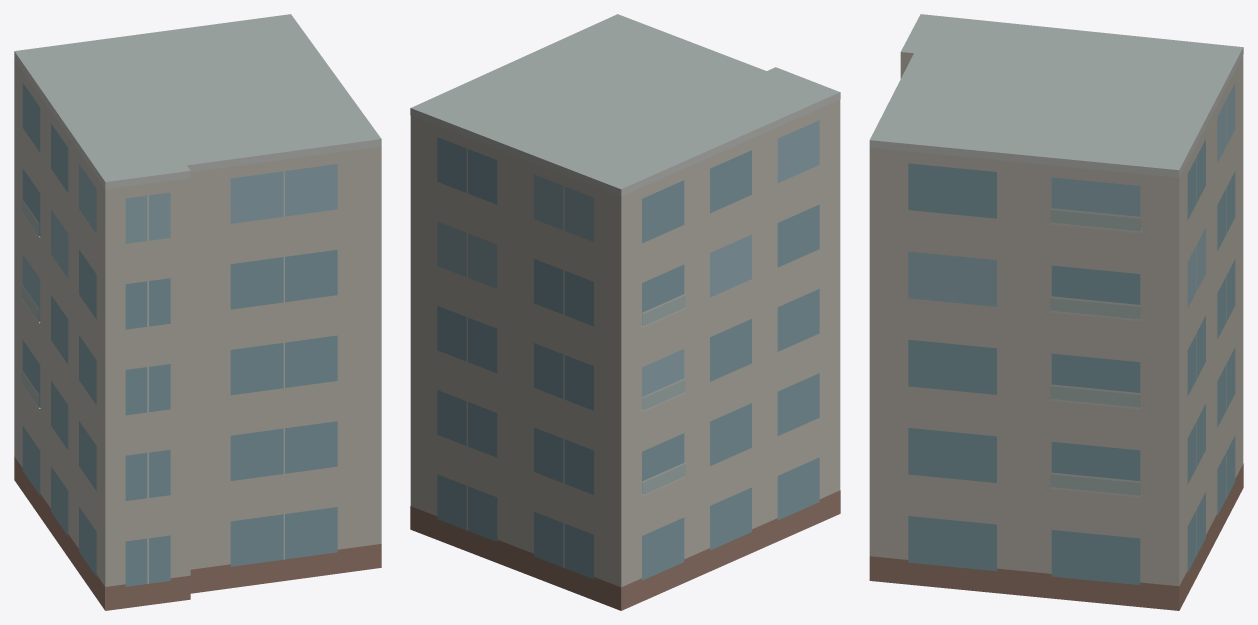
File: survey-upis-32495085.glb
3 views of the same model, side by side, from view 1: azimuth 30°, elevation 25°; view 2: azimuth 150°, elevation 25°; view 3: azimuth 270°, elevation 25° (orthographic). The views are drawn at different scales.
Visible parts, largest first — view 1: survey-upis-32495085.tmp; view 2: survey-upis-32495085.tmp; view 3: survey-upis-32495085.tmp.
Boxes of the visible parts, box(x1,y1,x2,y2) form: survey-upis-32495085.tmp: box(14, 14, 381, 610); survey-upis-32495085.tmp: box(410, 14, 840, 610); survey-upis-32495085.tmp: box(869, 14, 1243, 610).
Bounding box in the file's own units: 10.8 × 14.2 × 10.93.
